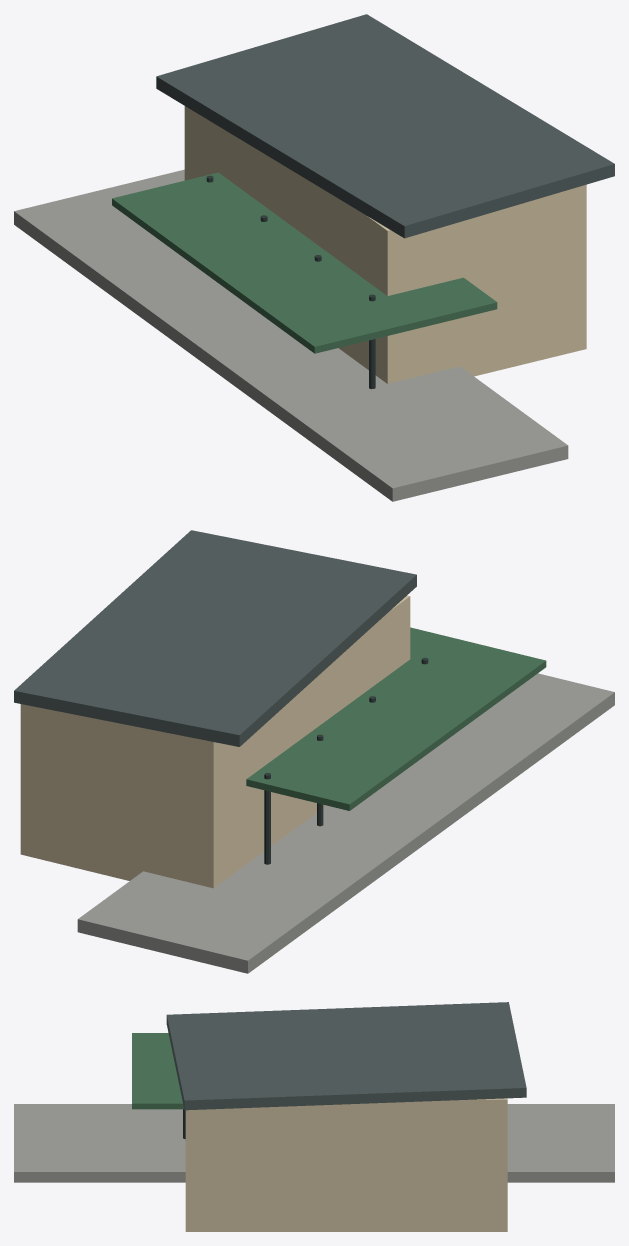
Rendered from norway-station_lod1.glb.
3 views of the same model, one above another, from view 1: azimuth 30°, elevation 25°; view 2: azimuth 150°, elevation 25°; view 3: azimuth 270°, elevation 25° (orthographic). The views are drawn at different scales.
Parts seen in each view (by area): view 1: RF_Station_Roof, RF_Station_Platform, RF_Station_Body, RF_Station_Canopy; view 2: RF_Station_Roof, RF_Station_Body, RF_Station_Platform, RF_Station_Canopy; view 3: RF_Station_Body, RF_Station_Roof, RF_Station_Platform, RF_Station_Canopy.
Part boxes in pixels (left/top/right/bottom): RF_Station_Roof: left=156, top=14, right=614, bottom=238; RF_Station_Platform: left=14, top=169, right=568, bottom=501; RF_Station_Body: left=184, top=106, right=586, bottom=383; RF_Station_Canopy: left=112, top=172, right=497, bottom=353; RF_Station_Roof: left=14, top=530, right=416, bottom=746; RF_Station_Body: left=20, top=595, right=410, bottom=888; RF_Station_Platform: left=77, top=673, right=614, bottom=973; RF_Station_Canopy: left=246, top=627, right=546, bottom=810; RF_Station_Body: left=185, top=1098, right=507, bottom=1231; RF_Station_Roof: left=166, top=1002, right=526, bottom=1110; RF_Station_Platform: left=14, top=1104, right=614, bottom=1182; RF_Station_Canopy: left=132, top=1033, right=183, bottom=1109.
Bounding box in the file's own units: 14.23 × 7.3 × 28.
